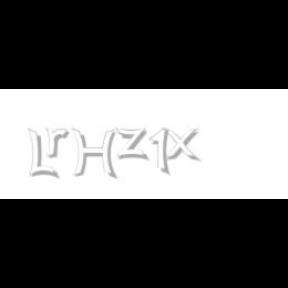1: (149, 128, 171, 176)
H: (71, 128, 117, 180)
L: (28, 128, 56, 180)
r: (46, 128, 72, 158)
x: (162, 128, 204, 162)
z: (115, 128, 151, 160)
